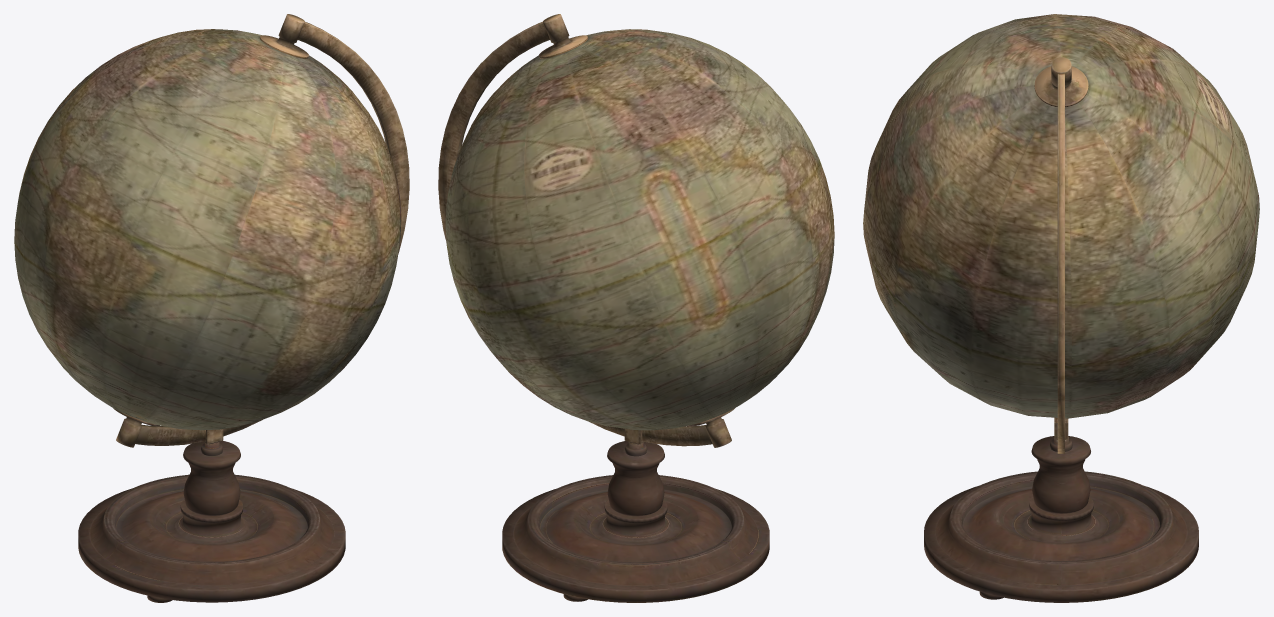
The model's file is globe.glb.
3 renders of one model, left to right at view 1: azimuth 30°, elevation 25°; view 2: azimuth 150°, elevation 25°; view 3: azimuth 270°, elevation 25°, orthographic. The views are drawn at different scales.
Parts seen in each view (by area): view 1: Globe_low_001_Globe_003_0, Globe_Base_low_001_Globe_Base_0; view 2: Globe_low_001_Globe_003_0, Globe_Base_low_001_Globe_Base_0; view 3: Globe_low_001_Globe_003_0, Globe_Base_low_001_Globe_Base_0.
Boxes of the visible parts, <box> form: Globe_low_001_Globe_003_0: <box>14,29,401,430</box>; Globe_Base_low_001_Globe_Base_0: <box>78,14,409,602</box>; Globe_low_001_Globe_003_0: <box>445,29,834,430</box>; Globe_Base_low_001_Globe_Base_0: <box>438,14,769,602</box>; Globe_low_001_Globe_003_0: <box>863,14,1259,418</box>; Globe_Base_low_001_Globe_Base_0: <box>924,57,1198,602</box>.
Size of the model in its own units: 0.4249 by 0.5709 by 0.3854.
Materials: 2 (2 with a texture image).
